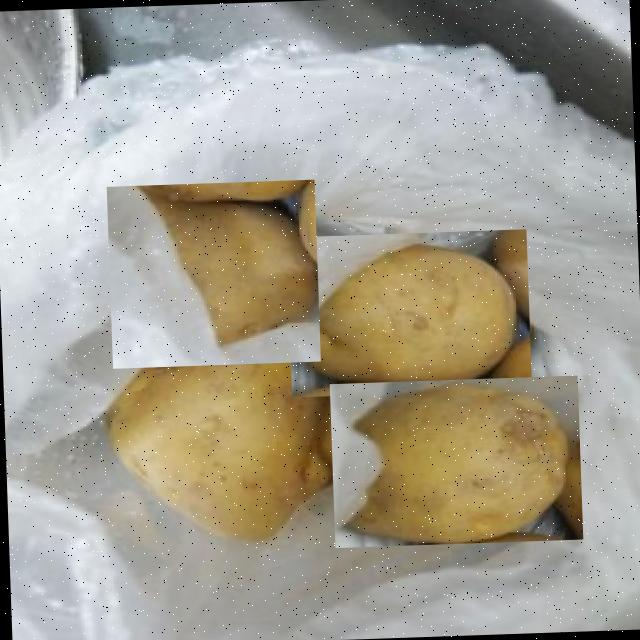Potato: (91, 337, 362, 550), (328, 375, 582, 548), (286, 229, 530, 397), (106, 179, 320, 368)
